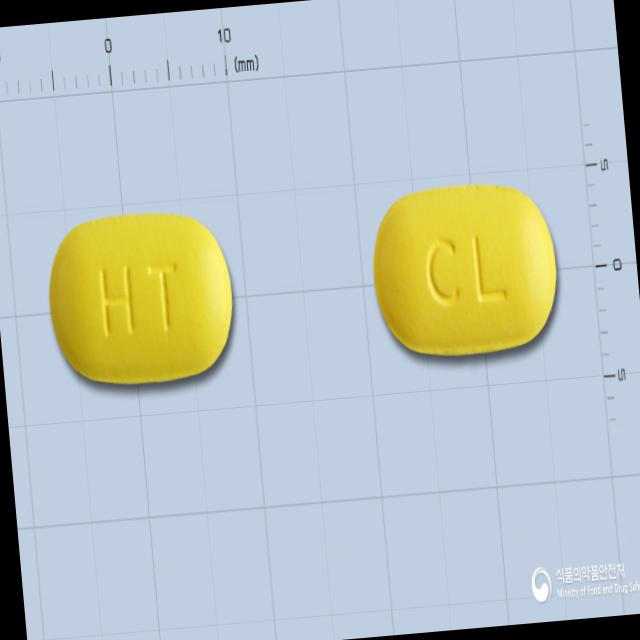Clathrocin -500mg: (365, 172, 564, 362), (42, 206, 240, 393)
